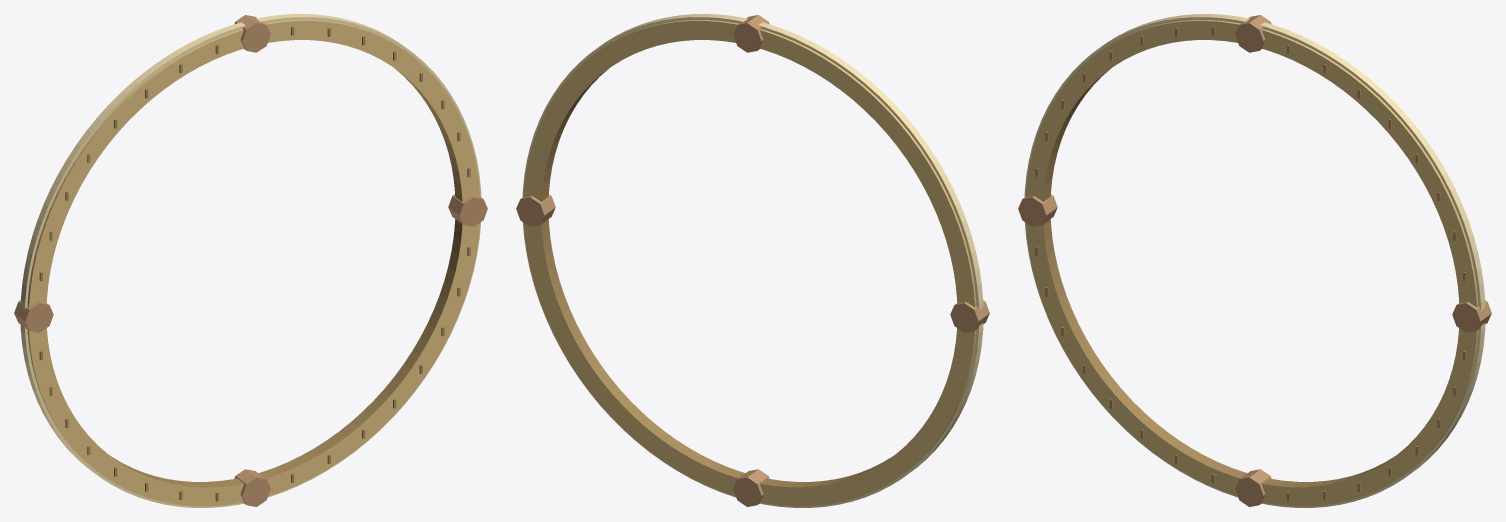
Rendered from Ring2.obj.
3 views of the same model, side by side, from view 1: azimuth 30°, elevation 25°; view 2: azimuth 150°, elevation 25°; view 3: azimuth 330°, elevation 25° (orthographic).
Parts seen in each view (by area): view 1: Ring2; view 2: Ring2; view 3: Ring2.
Part boxes in pixels (left/top/right/bottom): Ring2: left=14, top=14, right=487, bottom=507; Ring2: left=516, top=14, right=989, bottom=507; Ring2: left=1018, top=14, right=1491, bottom=507.
Bounding box in the file's own units: 19.82 × 19.82 × 0.84.
1 material, 1 textured.
